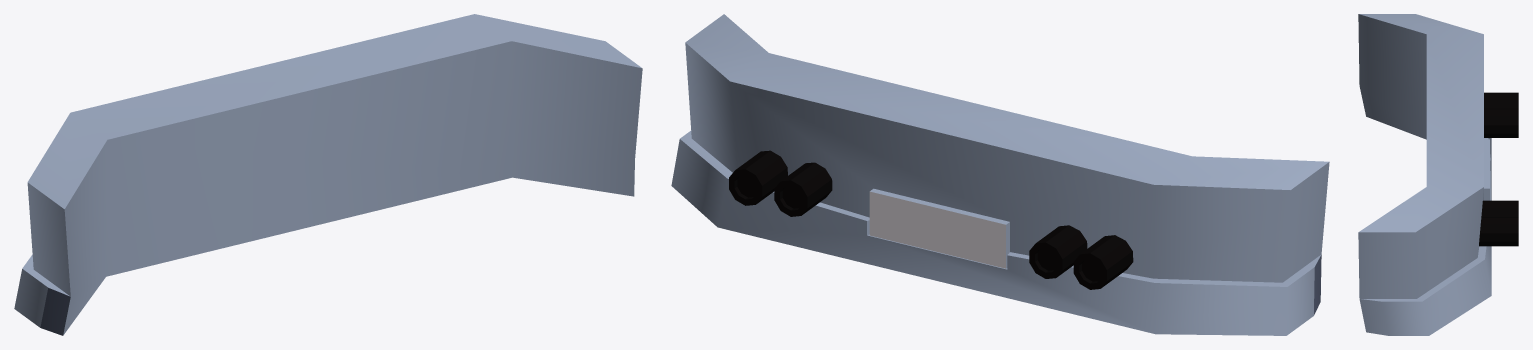
The model's file is bumper2.fbx.
3 renders of one model, left to right at view 1: azimuth 30°, elevation 25°; view 2: azimuth 150°, elevation 25°; view 3: azimuth 270°, elevation 25°, orthographic. The views are drawn at different scales.
Visible parts, largest first — view 1: Bumper2.002; view 2: Bumper2.002; view 3: Bumper2.002.
Boxes of the visible parts, left/top/right/bottom form: Bumper2.002: left=14, top=14, right=642, bottom=335; Bumper2.002: left=671, top=14, right=1329, bottom=335; Bumper2.002: left=1358, top=14, right=1518, bottom=335.
Bounding box in the file's own units: 2.47 × 0.5945 × 0.754.
